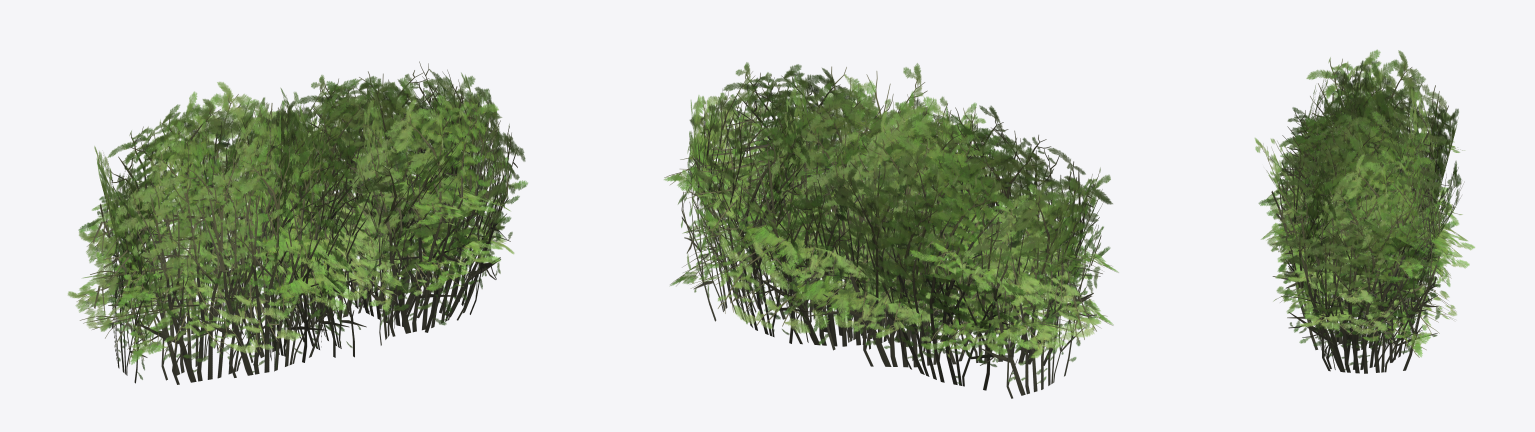
File: Bush7_Hedgh.gltf
3 views of the same model, side by side, from view 1: azimuth 30°, elevation 25°; view 2: azimuth 150°, elevation 25°; view 3: azimuth 270°, elevation 25° (orthographic). The views are drawn at different scales.
Visible parts, largest first — view 1: Object_89, Object_88, Object_90, Object_91; view 2: Object_89, Object_88, Object_90, Object_91; view 3: Object_89, Object_88, Object_91, Object_90.
Part boxes in pixels (x1,y1,x2,y2): Object_89: (108, 76, 525, 383); Object_88: (68, 76, 527, 357); Object_90: (89, 70, 501, 384); Object_91: (192, 61, 507, 377); Object_89: (685, 71, 1106, 398); Object_88: (682, 64, 1110, 390); Object_90: (664, 91, 1118, 360); Object_91: (678, 62, 1051, 346); Object_89: (1261, 60, 1474, 369); Object_88: (1258, 49, 1464, 369); Object_91: (1254, 85, 1459, 373); Object_90: (1269, 70, 1464, 366).
Size of the model in its own units: 95.58 by 42.42 by 55.38.
4 materials, 4 textured.
